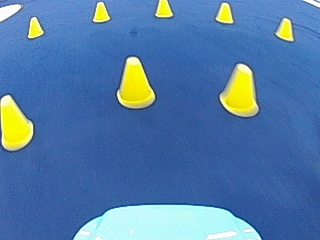cone: (219, 62, 259, 117), (116, 55, 155, 108), (0, 92, 34, 150), (274, 16, 294, 41), (214, 2, 234, 24), (92, 1, 110, 22), (27, 15, 44, 37), (154, 0, 172, 17)
